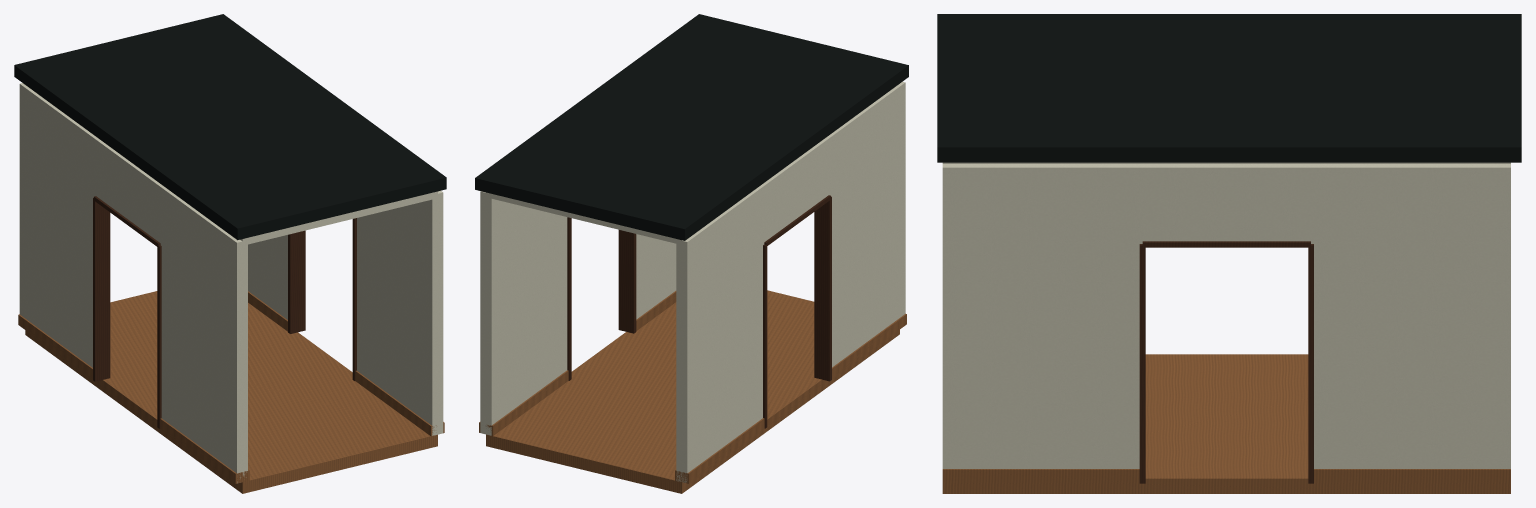
Rendered from gallery.glb.
The picture shows the model from 3 angles, left to right: view 1: azimuth 30°, elevation 25°; view 2: azimuth 150°, elevation 25°; view 3: azimuth 270°, elevation 25°; orthographic projection. The views are drawn at different scales.
Parts seen in each view (by area): view 1: V2_gallery_plaster.005, V2_gallery_metal.005, V2_gallery_oak.005, V2_gallery_walnut.005; view 2: V2_gallery_plaster.005, V2_gallery_metal.005, V2_gallery_oak.005, V2_gallery_walnut.005; view 3: V2_gallery_plaster.005, V2_gallery_metal.005, V2_gallery_oak.005, V2_gallery_walnut.005.
Boxes of the visible parts, x1,y1,x2,y2 form: V2_gallery_plaster.005: (19,83,443,483); V2_gallery_metal.005: (14,14,446,240); V2_gallery_oak.005: (18,291,444,493); V2_gallery_walnut.005: (93,196,356,428); V2_gallery_plaster.005: (480,81,905,482); V2_gallery_metal.005: (475,14,908,240); V2_gallery_oak.005: (479,290,906,493); V2_gallery_walnut.005: (567,195,831,428); V2_gallery_plaster.005: (942,162,1510,468); V2_gallery_metal.005: (937,14,1521,162); V2_gallery_oak.005: (942,354,1510,493); V2_gallery_walnut.005: (1139,241,1313,483).
Bounding box in the file's own units: 3.02 × 3.68 × 5.55.
4 materials, 3 textured.
